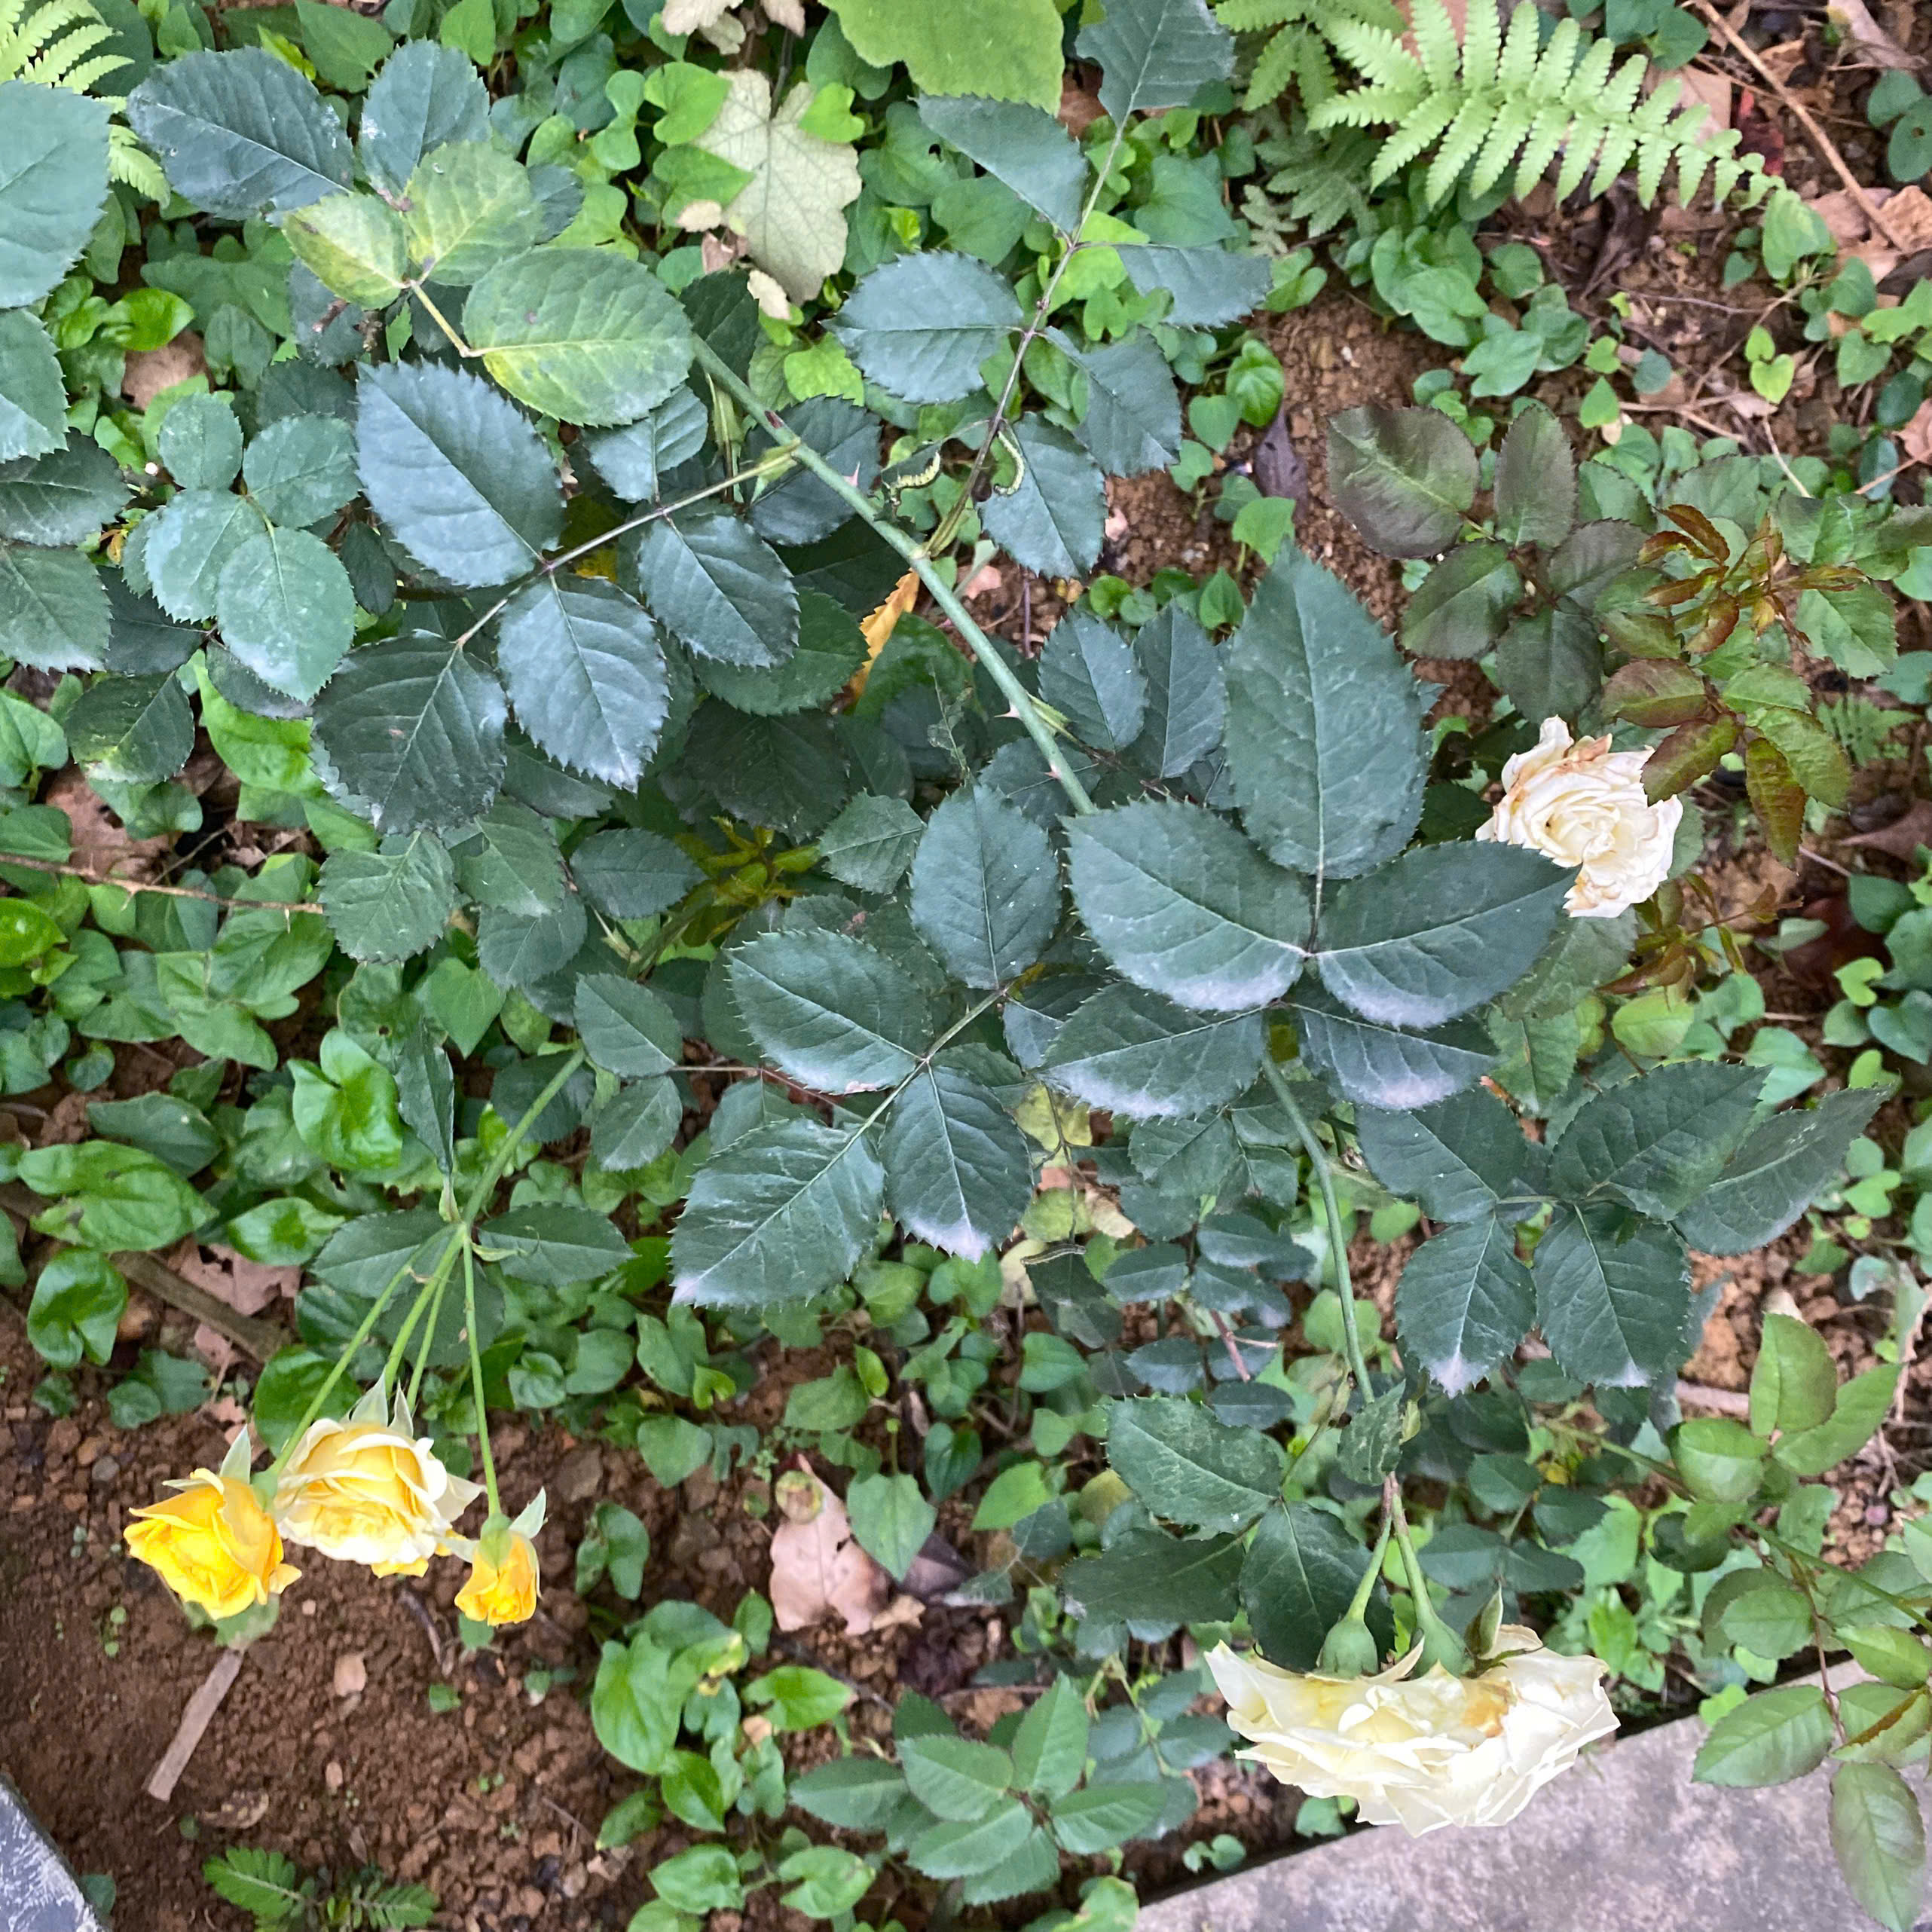hoa_thuoc_duoc: (80, 143, 1815, 1813)
